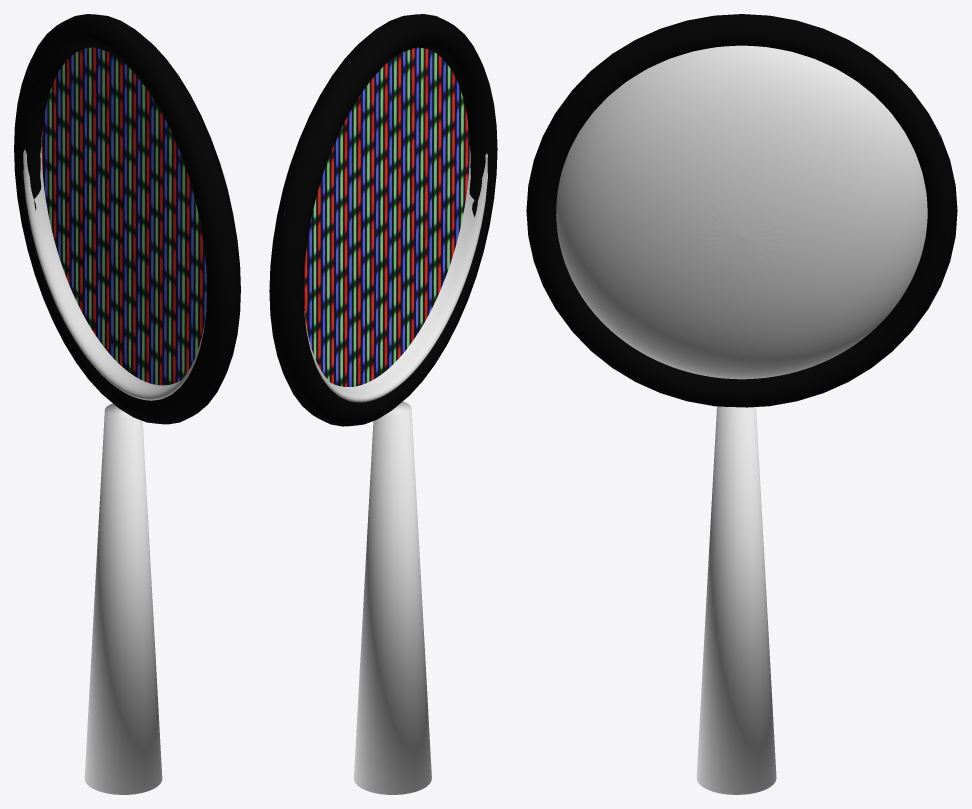
The model's file is magnifying.fbx.
3 views of the same model, side by side, from view 1: azimuth 30°, elevation 25°; view 2: azimuth 150°, elevation 25°; view 3: azimuth 270°, elevation 25° (orthographic). The views are drawn at different scales.
Parts seen in each view (by area): view 1: Plane, Torus, Cylinder, Sphere; view 2: Plane, Torus, Cylinder, Sphere; view 3: Sphere, Torus, Cylinder.
Part boxes in pixels (bbox=[...]): Plane: bbox=[41, 47, 206, 385]; Torus: bbox=[14, 14, 240, 424]; Cylinder: bbox=[84, 403, 162, 794]; Sphere: bbox=[23, 132, 231, 400]; Plane: bbox=[284, 47, 469, 386]; Torus: bbox=[269, 14, 497, 426]; Cylinder: bbox=[353, 401, 431, 794]; Sphere: bbox=[279, 146, 487, 402]; Sphere: bbox=[556, 45, 927, 379]; Torus: bbox=[526, 14, 957, 407]; Cylinder: bbox=[696, 406, 776, 794].
Size of the model in its own units: 69.76 by 476 by 243.
